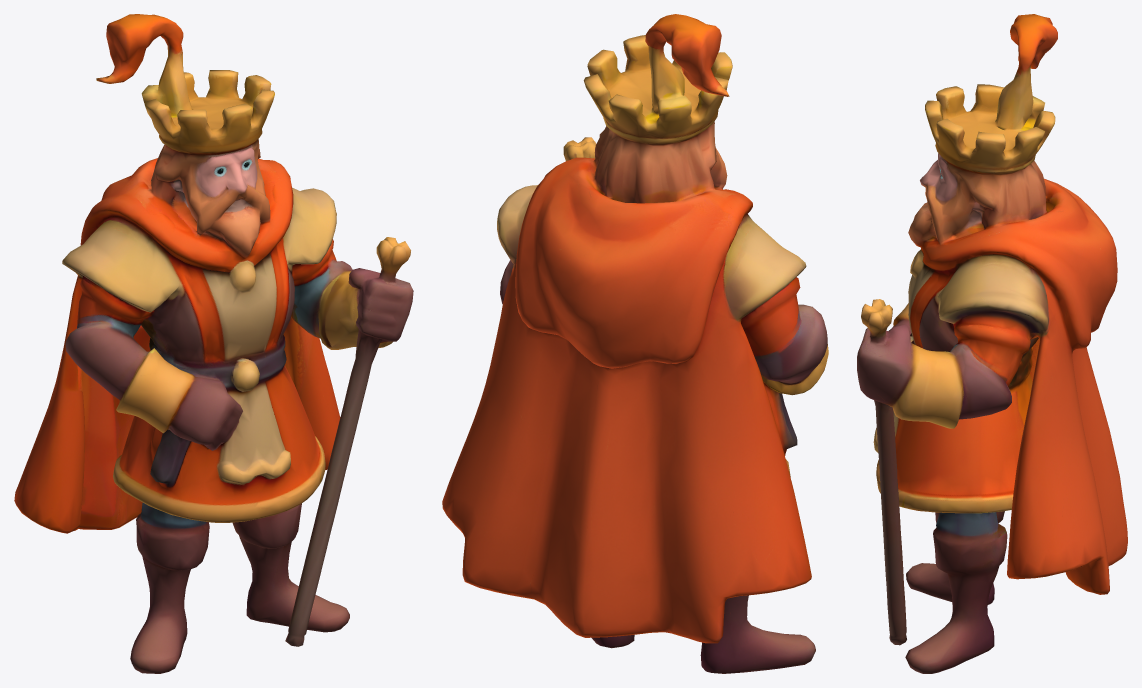
Rendered from ranged.glb.
3 views of the same model, side by side, from view 1: azimuth 30°, elevation 25°; view 2: azimuth 150°, elevation 25°; view 3: azimuth 270°, elevation 25° (orthographic). The views are drawn at different scales.
Bounding box in the file's own units: 1.07 × 1.91 × 0.8049.
Materials: 1 (1 with a texture image).
